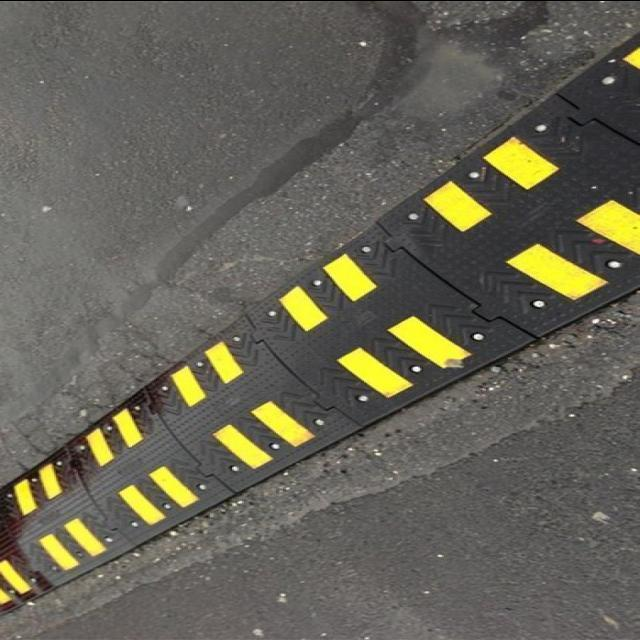speedbreaker: (0, 34, 640, 622)
